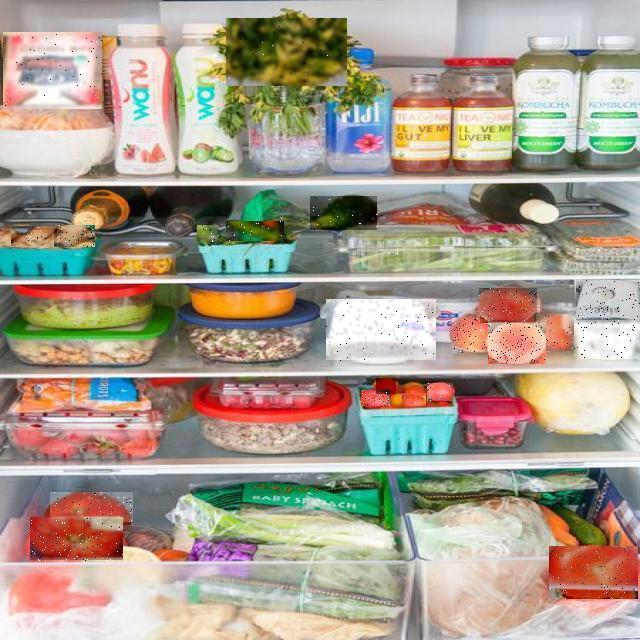Chillies: (226, 221, 284, 241), (198, 226, 220, 244)
Courgates: (310, 196, 377, 230)
Ginger: (11, 226, 57, 246), (54, 225, 95, 247)
Milk: (3, 32, 102, 109)
Parsley: (226, 19, 347, 87)
Peach: (488, 322, 546, 364), (480, 288, 540, 323), (452, 316, 490, 353), (538, 314, 574, 351)
Tomato Paste: (549, 546, 638, 599), (30, 518, 123, 562), (50, 492, 133, 522), (427, 383, 453, 401), (361, 390, 390, 406), (376, 378, 396, 394), (402, 393, 426, 406)
Yoghurt: (326, 300, 436, 362), (576, 280, 640, 322), (574, 320, 640, 359)
